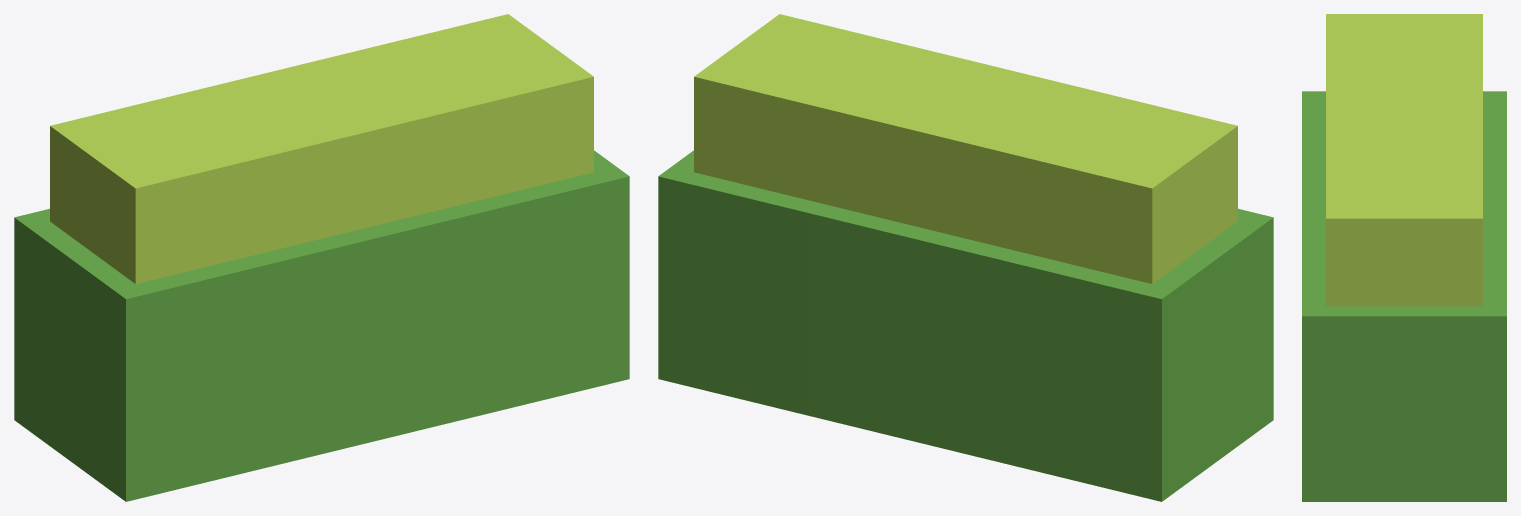
File: STADIUM_Tree_5_Mesh.fbx
3 views of the same model, side by side, from view 1: azimuth 30°, elevation 25°; view 2: azimuth 150°, elevation 25°; view 3: azimuth 270°, elevation 25° (orthographic). The views are drawn at different scales.
Parts seen in each view (by area): view 1: STADIUM_Tree_5_Mesh; view 2: STADIUM_Tree_5_Mesh; view 3: STADIUM_Tree_5_Mesh.
Part boxes in pixels (x1=…): STADIUM_Tree_5_Mesh: x1=14, y1=14, x2=629, y2=501; STADIUM_Tree_5_Mesh: x1=658, y1=14, x2=1273, y2=501; STADIUM_Tree_5_Mesh: x1=1302, y1=14, x2=1506, y2=501.
Size of the model in its own units: 21.84 by 12.36 by 8.4.
